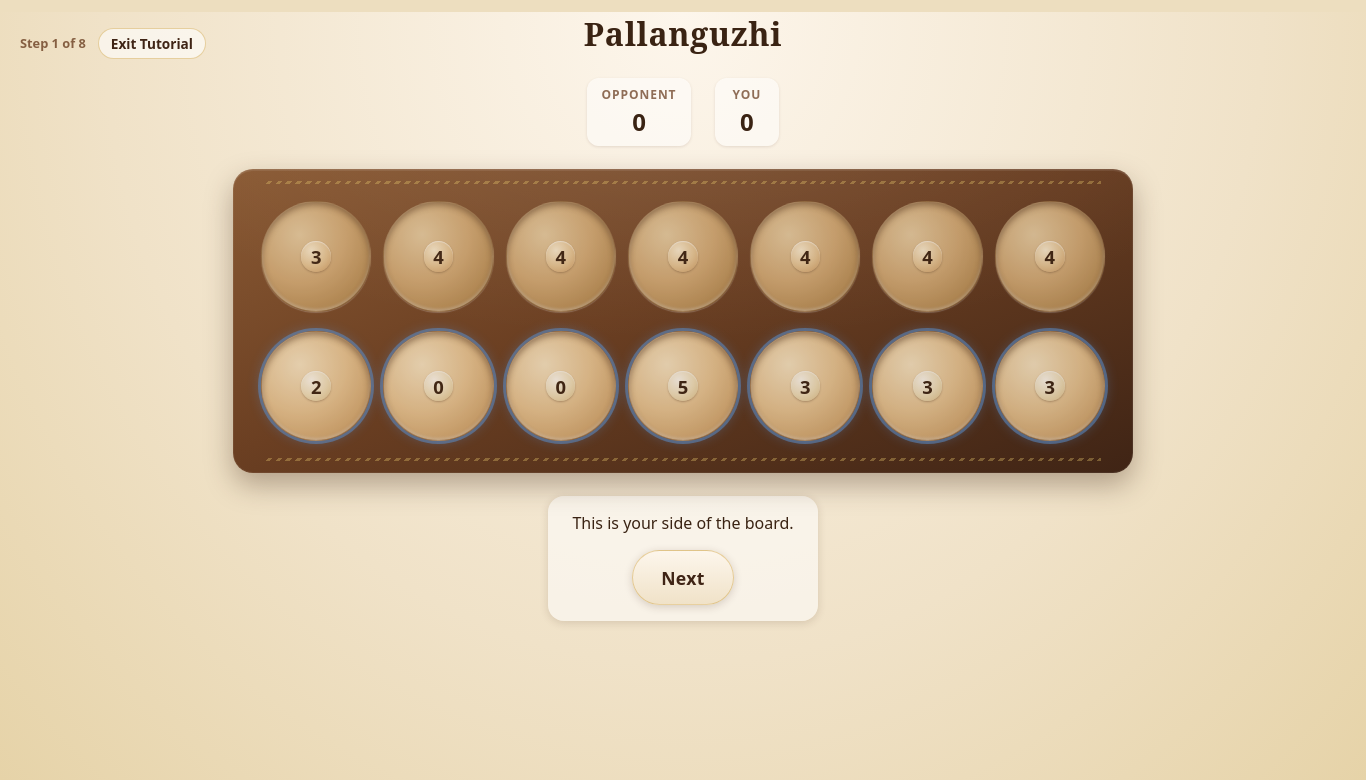
Scenario: TutorialScreen › "Show Opponent's Move" runs the real engine for the scripted opponent reply
Step 1. Click the button "Next" → (683, 578), box [632,550,734,605]
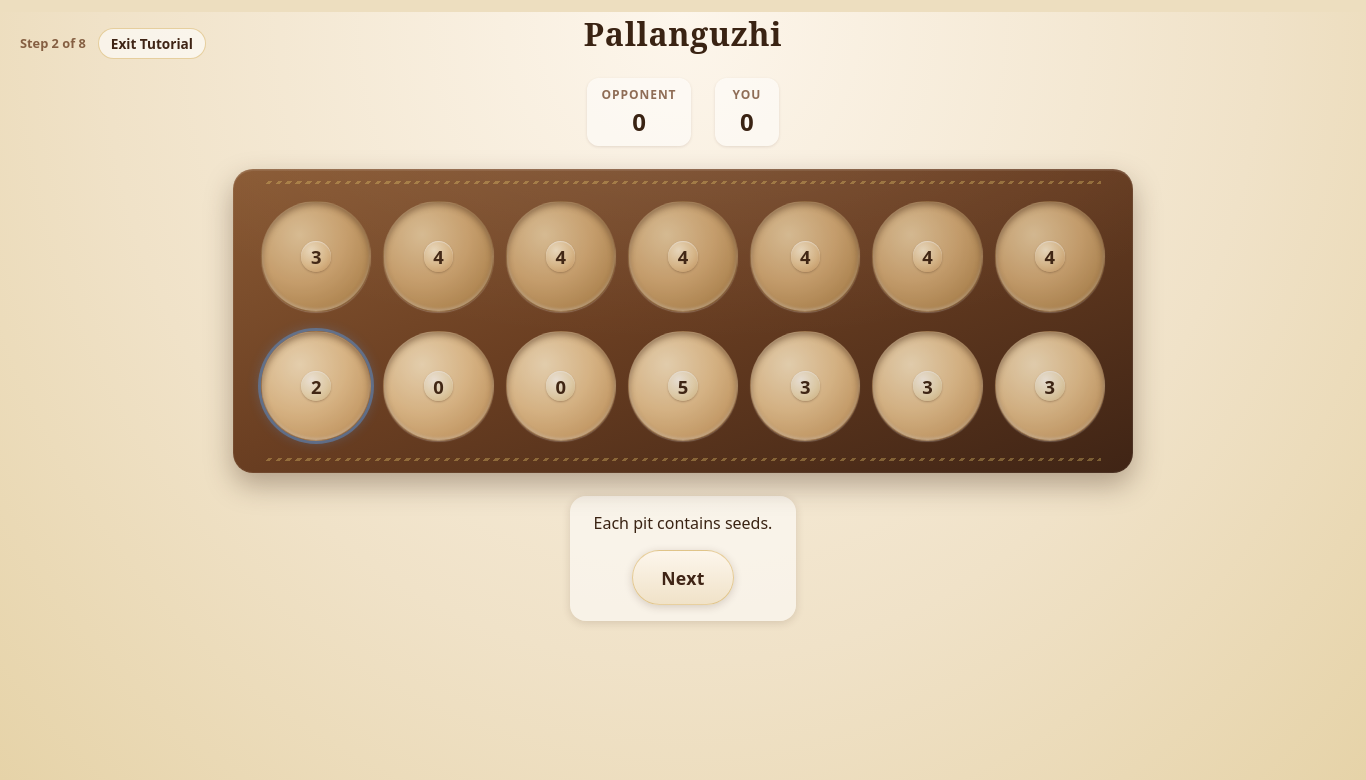
Step 2. Click the button "Next" → (683, 578), box [632,550,734,605]
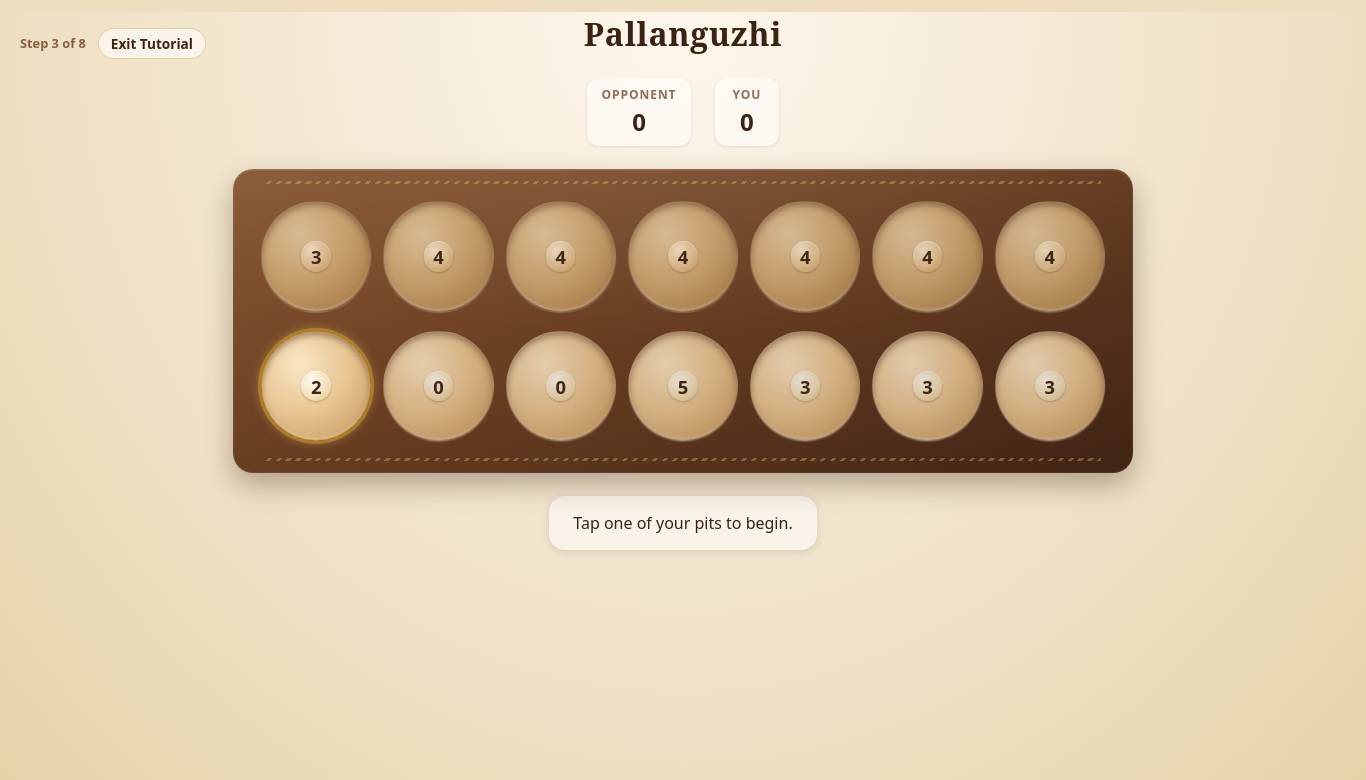
Step 3. Click the button with test id "pit-7" → (316, 386), box [261,331,371,441]
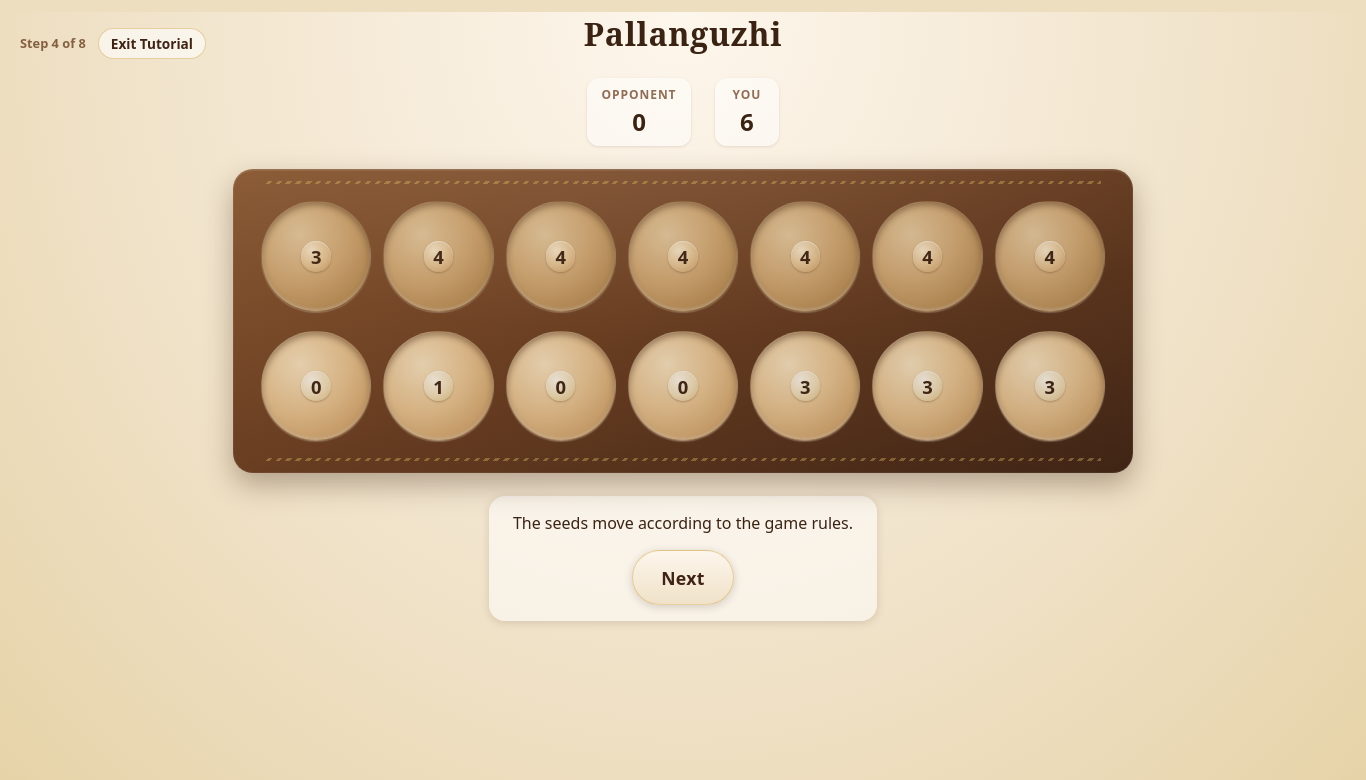
Step 4. Click the button "Next" → (683, 578), box [632,550,734,605]
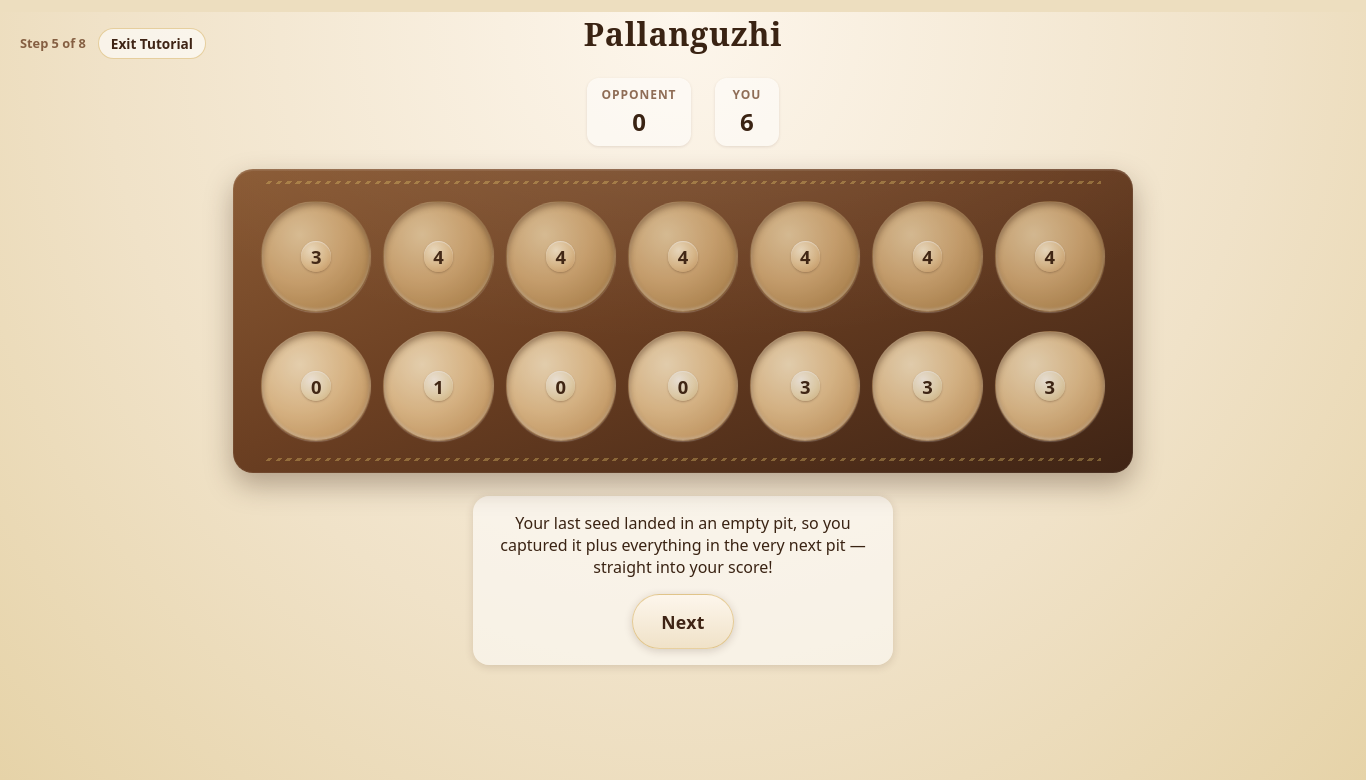
Step 5. Click the button "Next" → (683, 622), box [632,594,734,649]
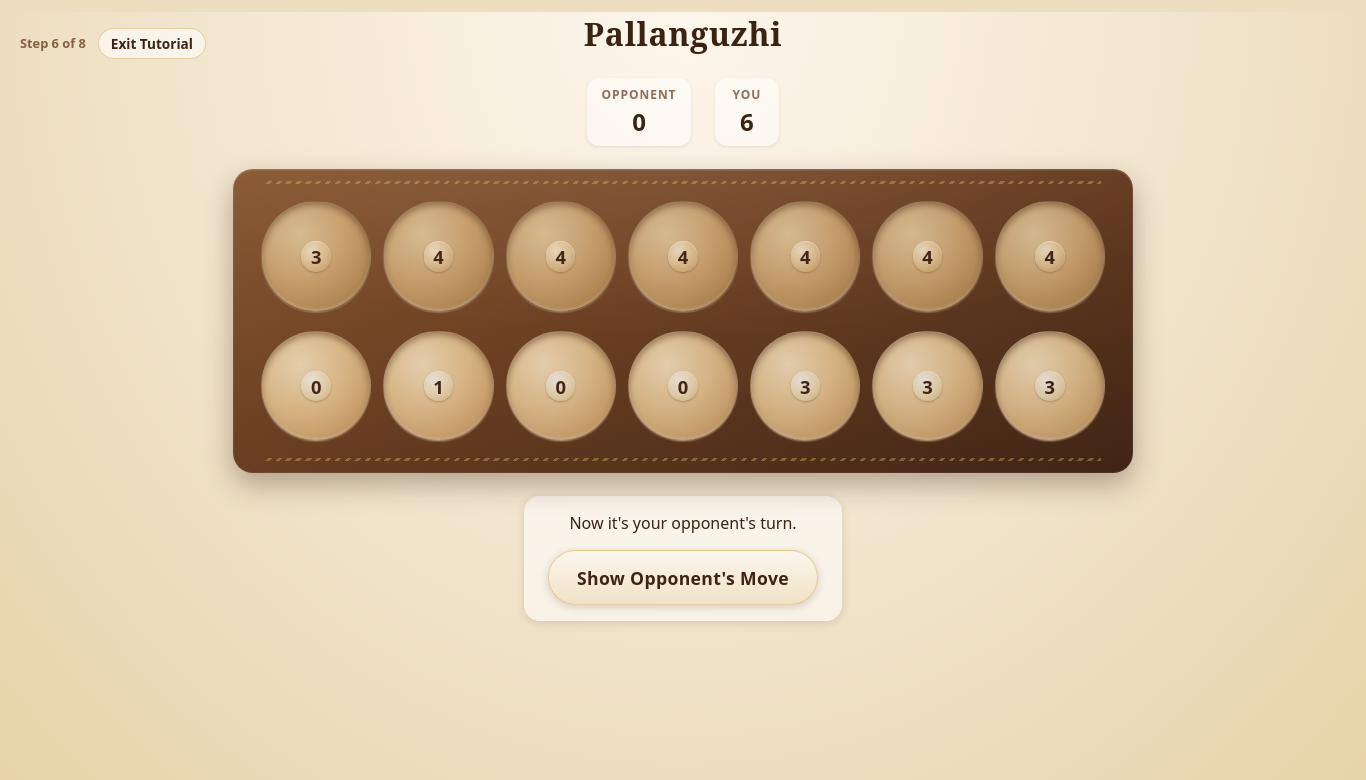
Step 6. Click the button "Show Opponent's Move" → (683, 578), box [548,550,818,605]
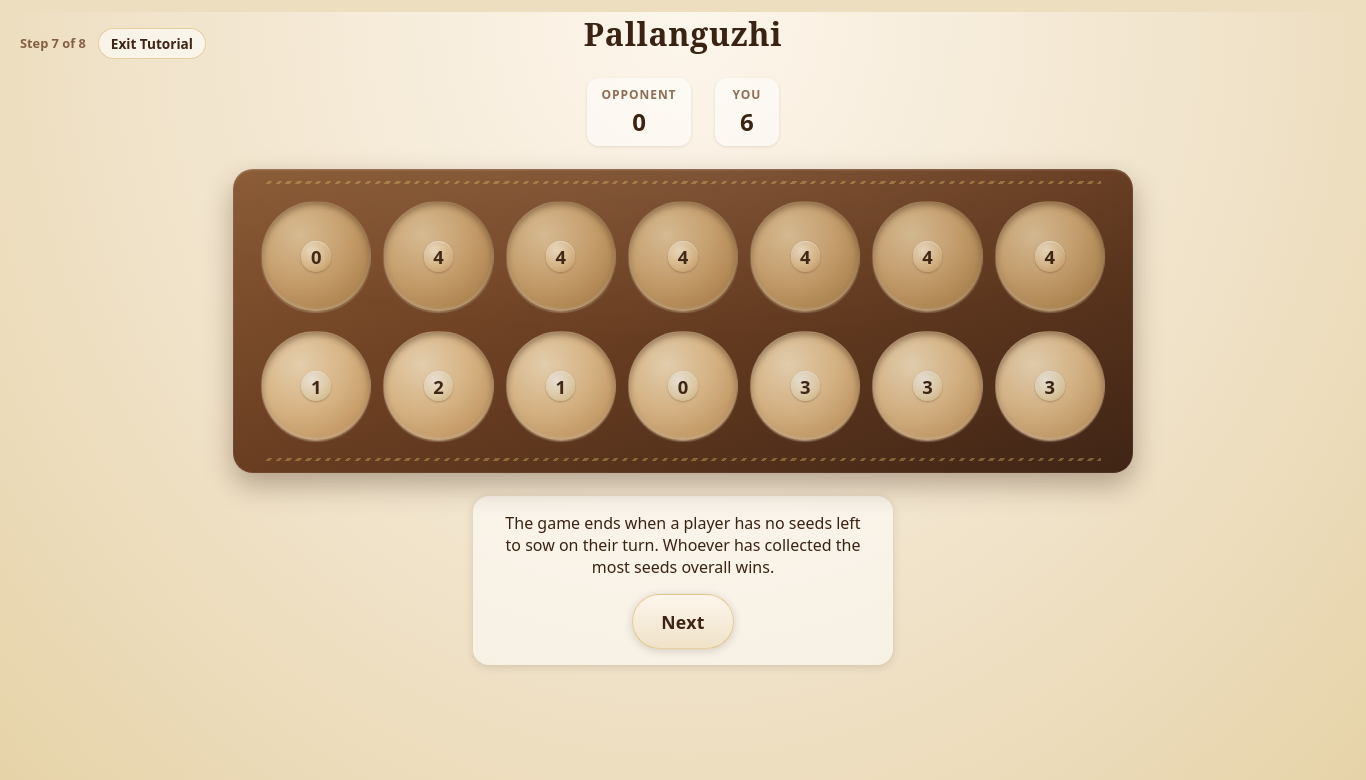
Expected: the text "0" below "Opponent" is shown, [632,105,646,138]
Now the text "6" is shown, box [740,105,754,138]
Now the text "no seeds left to sow" is shown, box [505,512,861,578]
